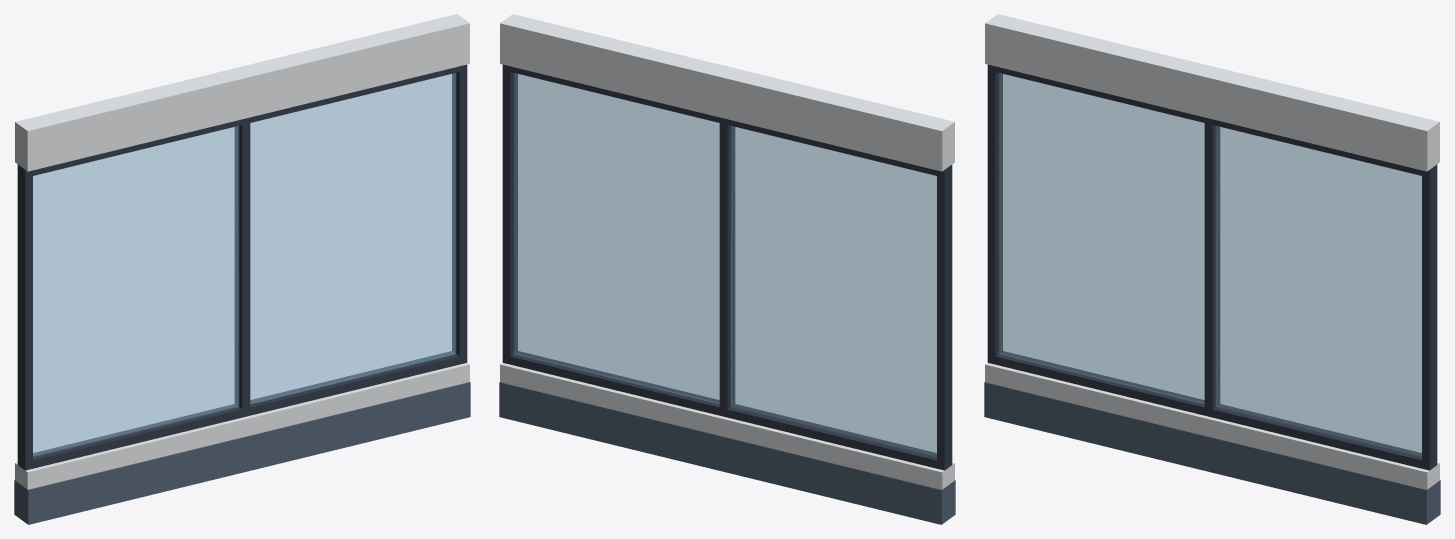
Rendered from Wall_Window.obj.
3 renders of one model, left to right at view 1: azimuth 30°, elevation 25°; view 2: azimuth 150°, elevation 25°; view 3: azimuth 330°, elevation 25°, orthographic.
Visible parts, largest first — view 1: Glass, Wall; view 2: Glass, Wall; view 3: Glass, Wall.
Boxes of the visible parts, x1,y1,x2,y2 form: Glass: (33, 73, 455, 456); Wall: (14, 14, 470, 524); Glass: (514, 73, 936, 456); Wall: (499, 14, 955, 524); Glass: (999, 73, 1421, 456); Wall: (984, 14, 1440, 524).
Size of the model in its own units: 4 by 3.4 by 0.22.
